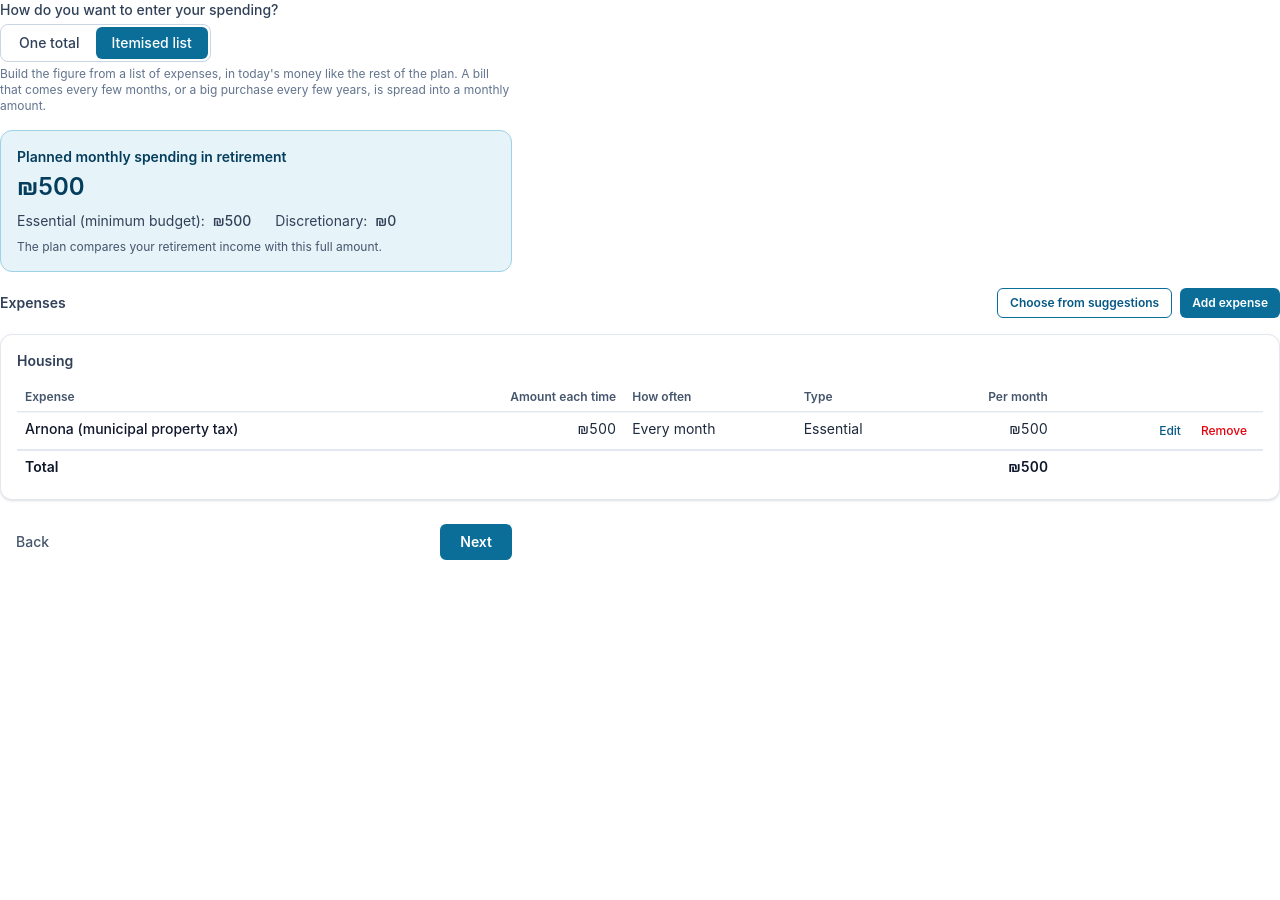
ExpensesStep — itemised list › shows a suggested expense under its catalog name until the user types their own
This screenshot has width=1280, height=900.
Expected: the text "Arnona (municipal property tax)" is shown, x1=25 y1=420 x2=238 y2=437
Click the button "Edit" at (1170, 431), box x1=1151 y1=419 x2=1189 y2=443
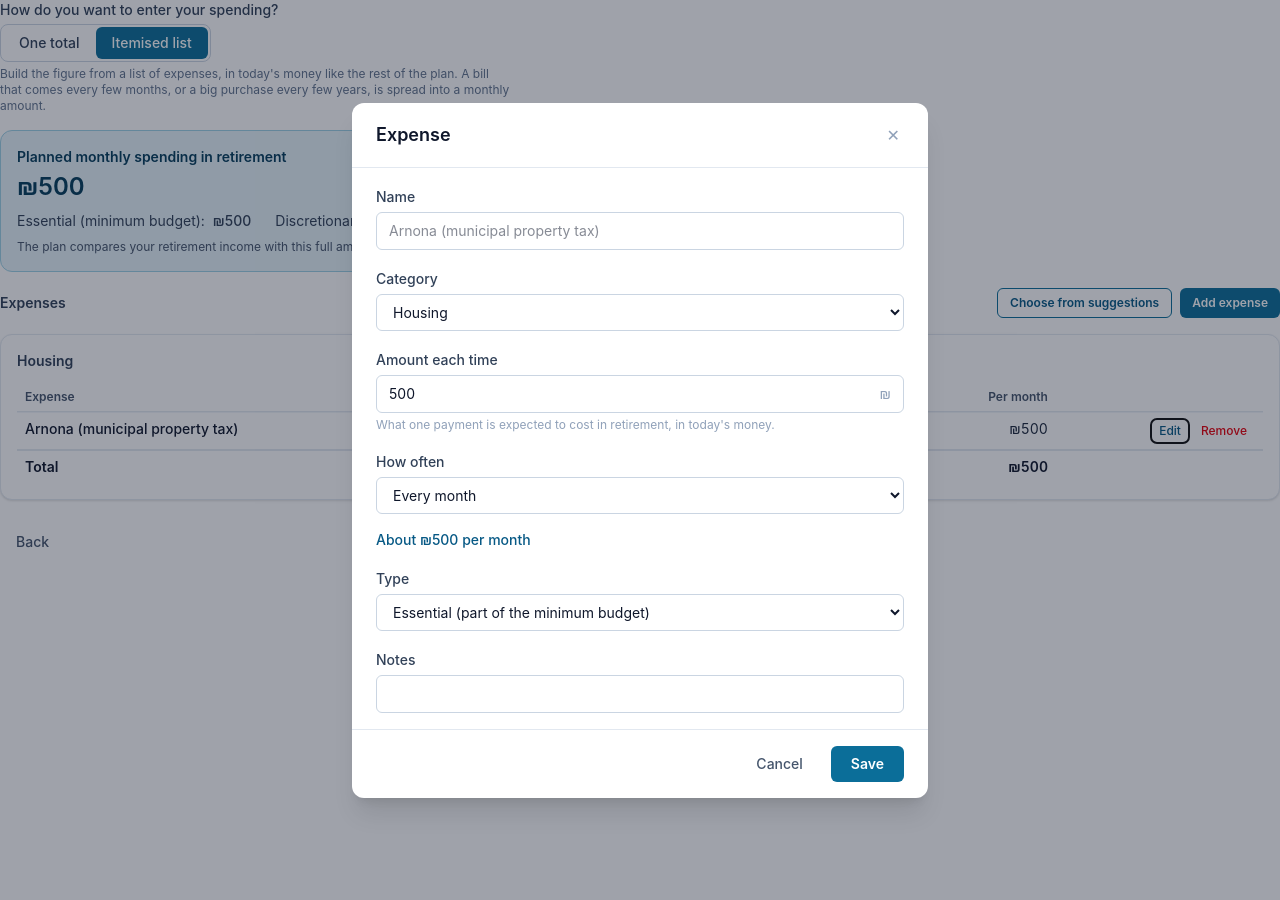
Expected: the field labelled "Name" is empty
Type "Arnona for the flat" into the field labelled "Name" at (640, 230), box x1=376 y1=212 x2=904 y2=250
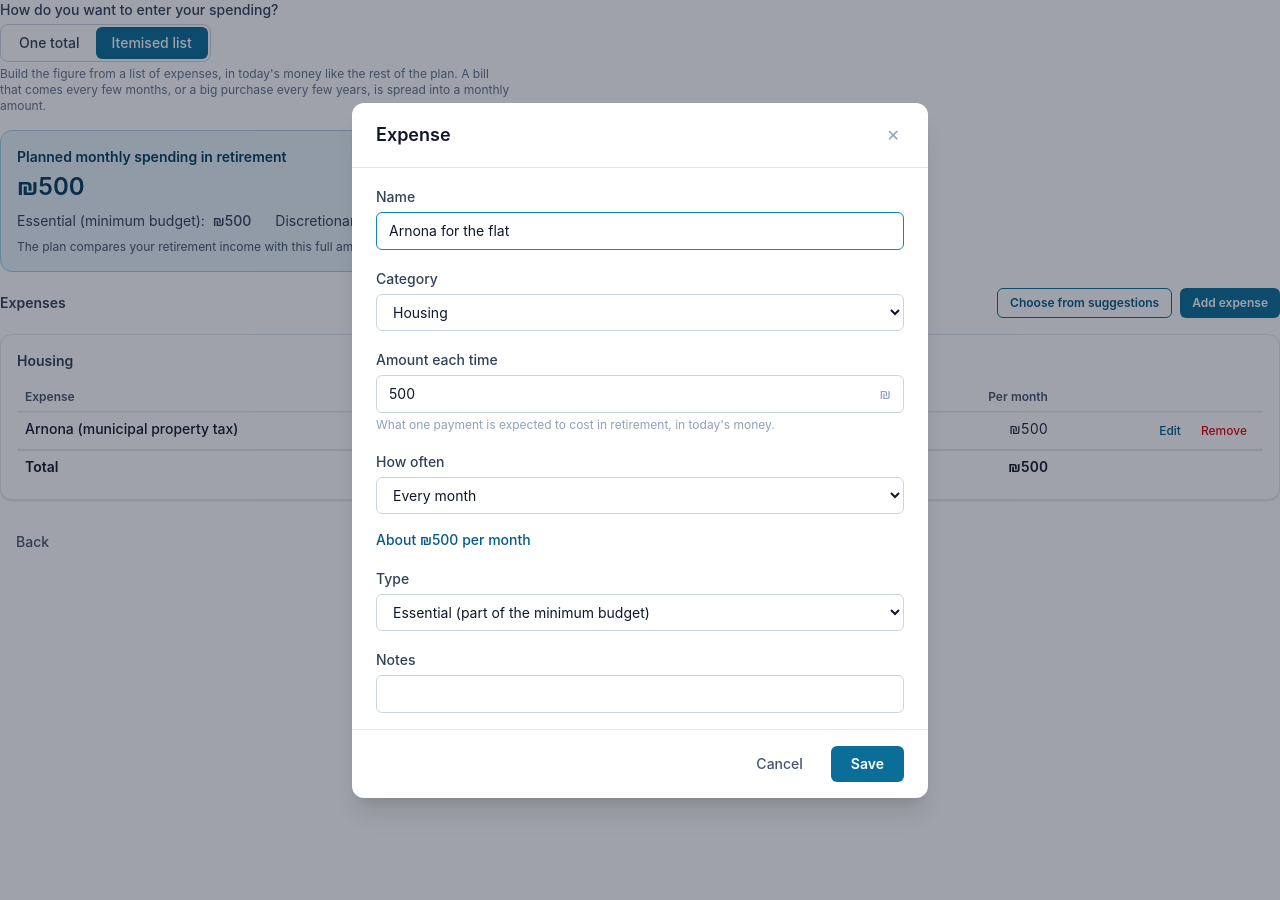
Click the button "Save" at (867, 764), box x1=831 y1=746 x2=904 y2=782
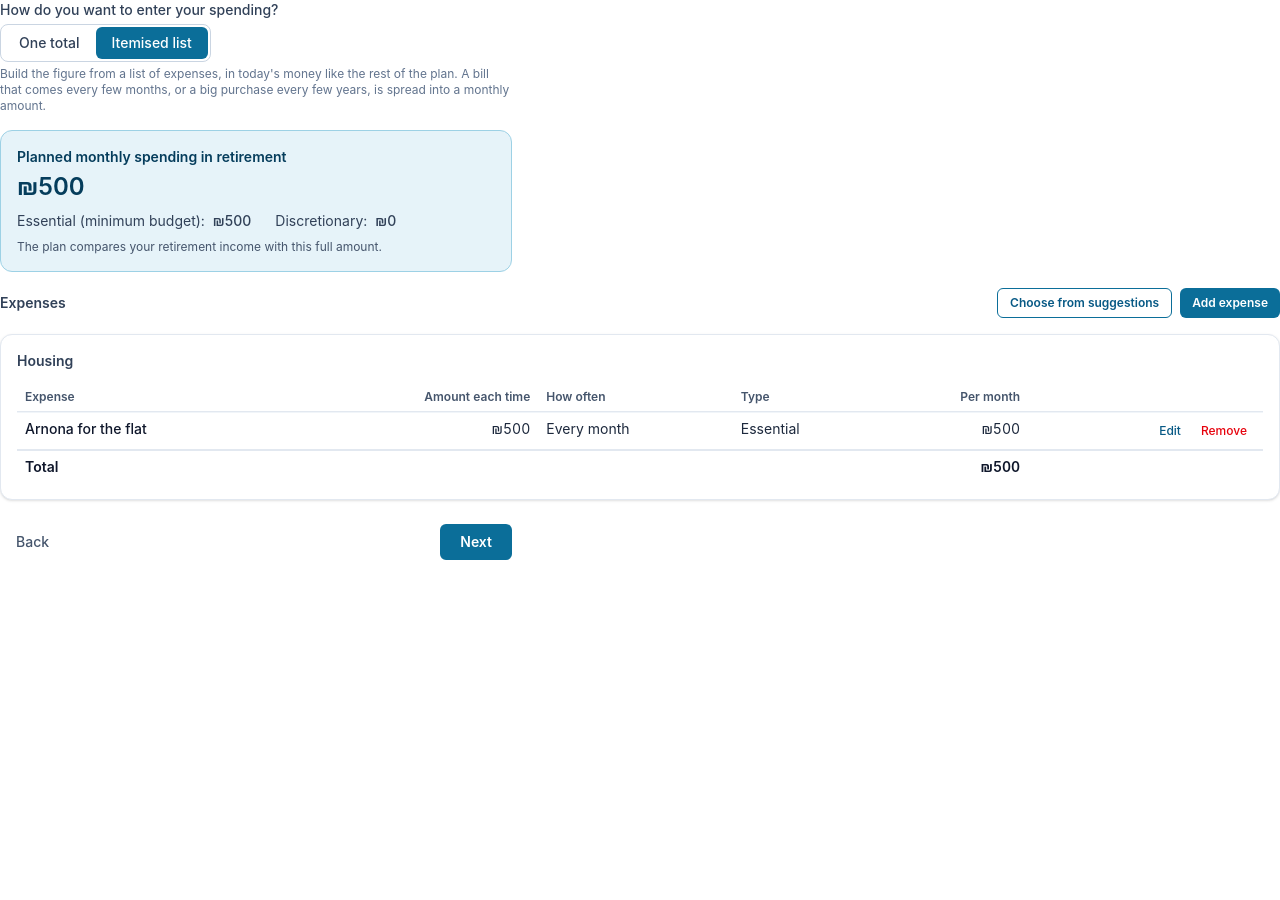
Expected: the text "Arnona for the flat" is shown, x1=25 y1=420 x2=147 y2=437
